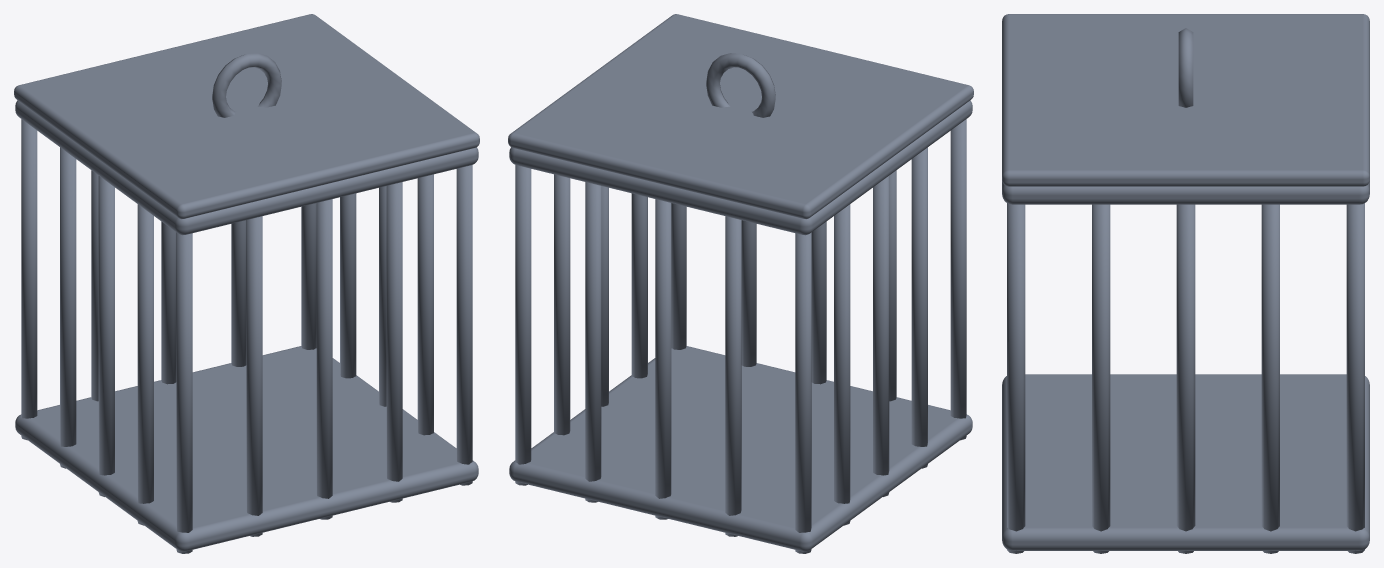
The model's file is overlay_cage.glb.
The picture shows the model from 3 angles, left to right: view 1: azimuth 30°, elevation 25°; view 2: azimuth 150°, elevation 25°; view 3: azimuth 270°, elevation 25°; orthographic projection. The views are drawn at different scales.
Parts seen in each view (by area): view 1: CageBars, CageTop, Rail, Rail.001, CageHandle; view 2: CageBars, CageTop, Rail, Rail.001, CageHandle; view 3: CageTop, Rail, CageBars, Rail.001, CageHandle.
Part boxes in pixels (left/top/right/bottom): CageBars: left=21, top=119, right=472, bottom=553; CageTop: left=14, top=14, right=479, bottom=219; Rail: left=15, top=346, right=478, bottom=551; Rail.001: left=15, top=100, right=478, bottom=235; CageHandle: left=212, top=53, right=281, bottom=117; CageBars: left=515, top=119, right=966, bottom=553; CageTop: left=508, top=14, right=973, bottom=219; Rail: left=509, top=346, right=972, bottom=551; Rail.001: left=509, top=100, right=972, bottom=235; CageHandle: left=706, top=53, right=775, bottom=117; CageTop: left=1002, top=14, right=1369, bottom=186; Rail: left=1002, top=374, right=1369, bottom=550; CageBars: left=1007, top=203, right=1364, bottom=553; Rail.001: left=1002, top=180, right=1369, bottom=204; CageHandle: left=1178, top=28, right=1193, bottom=107.
Bounding box in the file's own units: 1.08 × 1.38 × 1.04.
